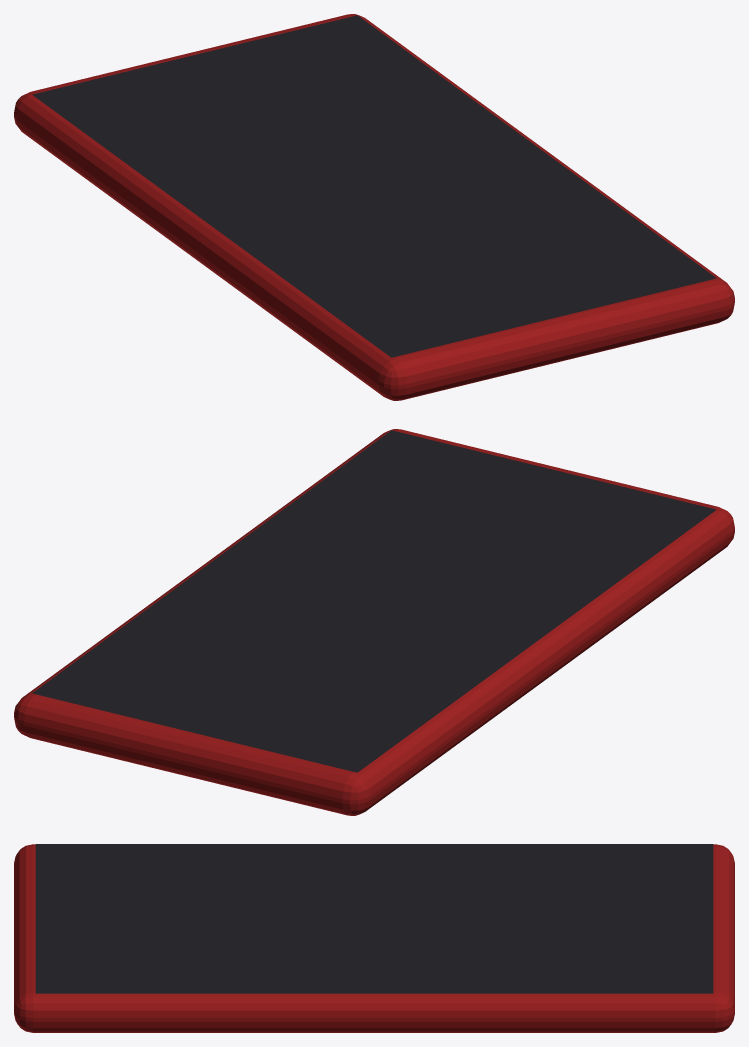
File: google-pixel-model-371-mid-range-2024.glb
3 renders of one model, top to bottom at view 1: azimuth 30°, elevation 25°; view 2: azimuth 150°, elevation 25°; view 3: azimuth 270°, elevation 25°, orthographic. The views are drawn at different scales.
Visible parts, largest first — view 1: Phone_Screen, Phone_Body; view 2: Phone_Screen, Phone_Body; view 3: Phone_Screen, Phone_Body.
Part boxes in pixels (x1,y1,x2,y2): Phone_Screen: (32, 15, 716, 357); Phone_Body: (14, 14, 734, 400); Phone_Screen: (32, 430, 716, 772); Phone_Body: (14, 429, 734, 815); Phone_Screen: (35, 844, 713, 993); Phone_Body: (14, 844, 734, 1032).
Size of the model in its own units: 0.0768 by 0.0086 by 0.1438.
